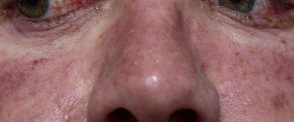SJS-TEN: (0, 54, 53, 111), (47, 0, 108, 25), (245, 0, 294, 29)
